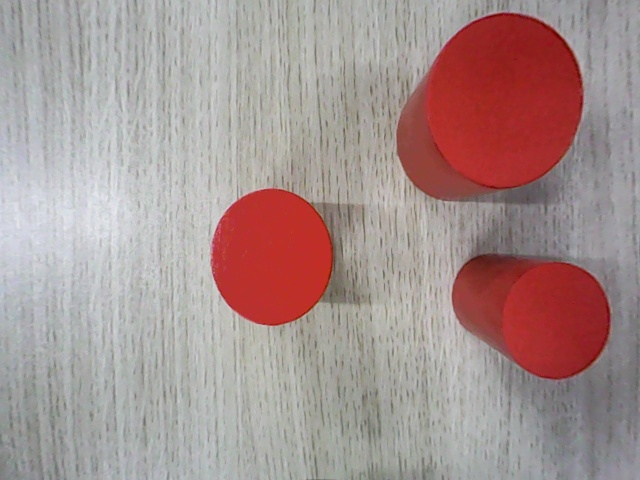upside of cylinder: (427, 13, 584, 188), (211, 189, 332, 325), (501, 261, 612, 380)
